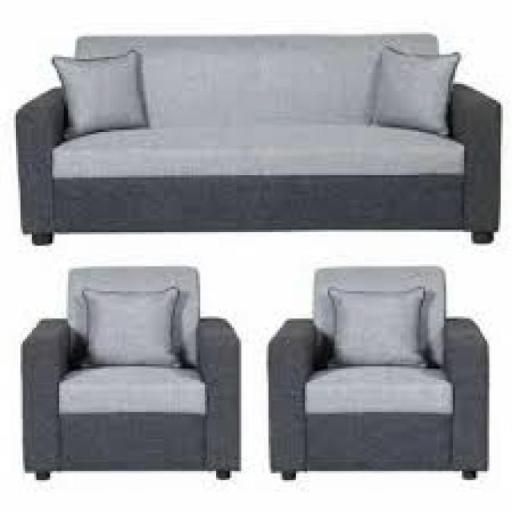sofa: (14, 11, 512, 261), (266, 269, 511, 512), (20, 263, 246, 497)
